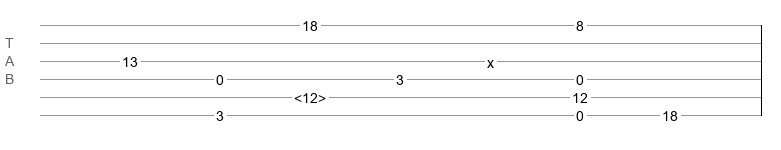0: (216, 72, 224, 82), (576, 72, 584, 82), (576, 108, 584, 118)
12: (572, 90, 588, 100)
13: (122, 54, 138, 64)
18: (302, 18, 318, 28), (662, 108, 678, 118)
3: (216, 108, 224, 118), (396, 72, 404, 82)
8: (576, 18, 584, 28)
harmonic: (294, 90, 326, 100)
x: (487, 55, 494, 63)
